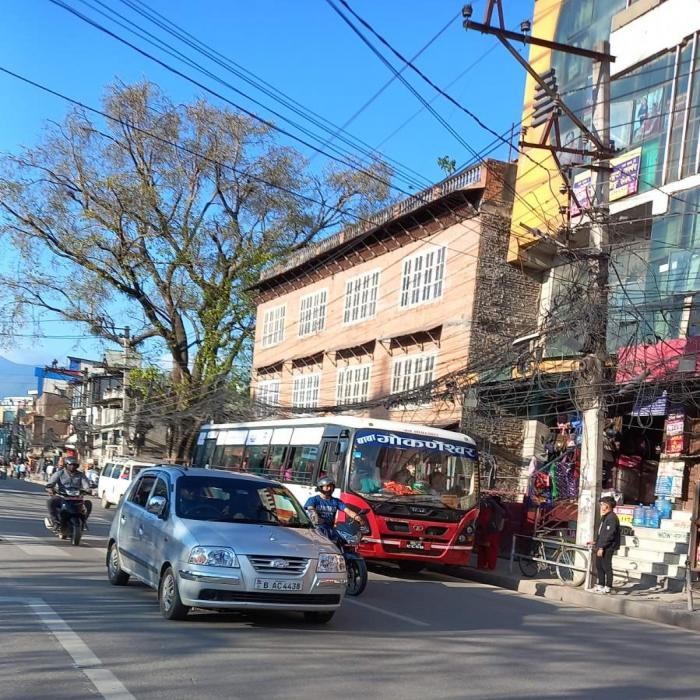number_plate: (255, 578, 303, 589)
